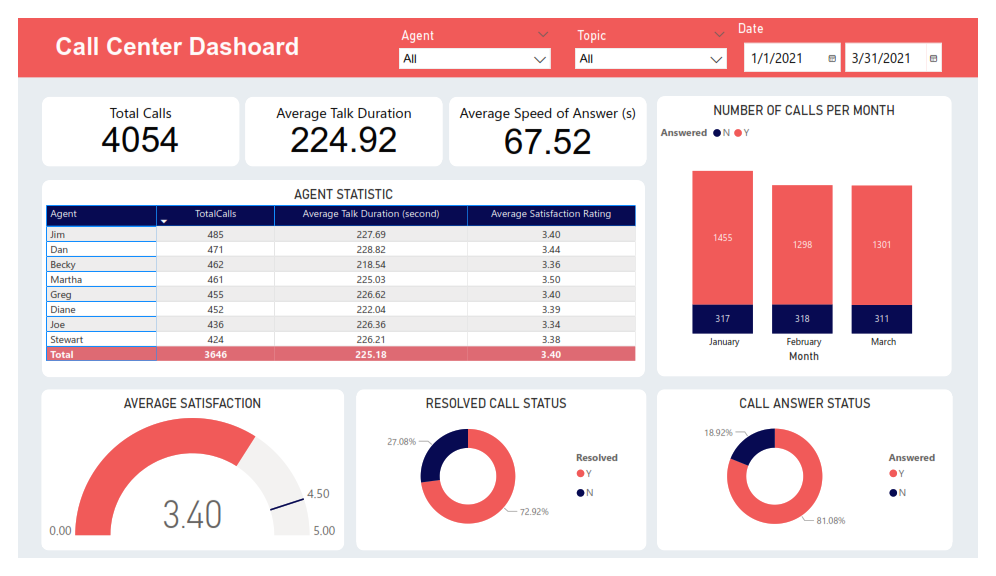

Layout of this report page (visuals, bound fields, positions):
{"tool":"powerbi","page":{"name":"Dashboard","canvas":[1280,720],"ordinal":0},"visuals":[{"type":"shape","box":[31.7,105,263.3,93.3],"z":0,"group":"g3"},{"type":"shape","box":[303.3,105,262.9,92.9],"z":0,"group":"g4"},{"type":"shape","box":[575,105,262.9,92.9],"z":0,"group":"g2"},{"type":"group","id":"g1","title":"Group 5","box":[32.3,216,803.8,263],"z":0},{"type":"shape","box":[32.3,216,803.8,263],"z":0,"group":"g1"},{"type":"shape","box":[852.5,104.4,393,374.4],"z":1000,"group":"g5"},{"type":"shape","box":[852.2,495.2,393.8,214.5],"z":1000},{"type":"shape","box":[451.1,495.2,386.4,214.5],"z":2000},{"type":"kpi","title":"Total Calls","fields":{"Indicator":["Sheet1 (2).TotalCalls1"],"TrendLine":["Sheet1.datepalsu"]},"box":[31.7,114.5,263.3,74.4],"z":3000,"group":"g3"},{"type":"shape","box":[30.9,495.2,404.1,214.5],"z":3000},{"type":"shape","box":[0,0,1280,78.6],"z":4000},{"type":"kpi","title":"Average Speed of Answer (s)","fields":{"TrendLine":["Sheet1.datepalsu"],"Indicator":["Sheet1.AvgSpeedOfAnswer"]},"box":[575,114.4,262.9,74.1],"z":4000,"group":"g2"},{"type":"slicer","fields":{"Values":["Sheet1.Agent"]},"box":[497.6,8.6,222.9,62.9],"z":5000},{"type":"slicer","fields":{"Values":["Sheet1.Topic"]},"box":[733.3,8.6,221.4,62.9],"z":6000},{"type":"pivotTable","title":"AGENT STATISTIC","fields":{"Rows":["Sheet1.Agent"],"Values":["Sheet1.TotalCalls","Avg(Sheet1.AvgTalkDuration (second))","Avg(Sheet1.Satisfaction rating)"]},"box":[32.7,226,802.8,237.9],"z":7000},{"type":"donutChart","title":"CALL ANSWER STATUS","fields":{"Category":["Sheet1 (2).Answered (Y/N)"],"Y":["Sheet1 (2).TotalCalls1"]},"box":[852.2,504,393.8,195.4],"z":8000},{"type":"donutChart","title":"RESOLVED CALL STATUS","fields":{"Y":["Sheet1 (2).TotalCalls1"],"Category":["Sheet1 (2).Resolved"]},"box":[451.1,504,373.2,195.4],"z":9000},{"type":"slicer","title":"Date","fields":{"Values":["Sheet1.Date"]},"box":[955.1,4.4,289.5,69.1],"z":10000},{"type":"group","id":"g2","title":"Group 1","box":[575,105,263.3,93.3],"z":11000},{"type":"kpi","title":"Average Talk Duration","fields":{"Indicator":["Sheet1.AvgTalkDuration"],"TrendLine":["Sheet1.datepalsu"]},"box":[303.3,114.4,262.9,74.1],"z":11000,"group":"g4"},{"type":"group","id":"g3","title":"Group 2","box":[31.7,105,263.3,93.3],"z":12000},{"type":"group","id":"g4","title":"Group 3","box":[303.3,105,263.3,93.3],"z":13000},{"type":"group","id":"g5","title":"Group 4","box":[852.5,104.4,393,374.4],"z":14000},{"type":"columnChart","title":"NUMBER OF CALLS PER MONTH","fields":{"Category":["Sheet1 (2).Date.Variation.Date Hierarchy.Month"],"Series":["Sheet1 (2).Answered (Y/N)"],"Y":["CountNonNull(Sheet1 (2).Call Id)"]},"box":[851.8,114.5,392.5,349.4],"z":15000},{"type":"gauge","title":"AVERAGE SATISFACTION","fields":{"Y":["Sheet1.AvgSatisfaction"]},"box":[32.3,504,401.1,201.3],"z":16000}]}

Visuals, with their boxes in screenshot pixels (x1, y1, x2, y2), scaled from the page's 1280x720 canvas onto the 996x576 screenshot:
shape: [left=25, top=84, right=230, bottom=159]
shape: [left=236, top=84, right=441, bottom=158]
shape: [left=447, top=84, right=652, bottom=158]
"Group 5" group: [left=25, top=173, right=651, bottom=383]
shape: [left=25, top=173, right=651, bottom=383]
shape: [left=663, top=84, right=969, bottom=383]
shape: [left=663, top=396, right=970, bottom=568]
shape: [left=351, top=396, right=652, bottom=568]
"Total Calls" kpi: [left=25, top=92, right=230, bottom=151]
shape: [left=24, top=396, right=338, bottom=568]
shape: [left=0, top=0, right=995, bottom=63]
"Average Speed of Answer (s)" kpi: [left=447, top=92, right=652, bottom=151]
slicer - Sheet1.Agent: [left=387, top=7, right=561, bottom=57]
slicer - Sheet1.Topic: [left=571, top=7, right=743, bottom=57]
"AGENT STATISTIC" pivotTable: [left=25, top=181, right=650, bottom=371]
"CALL ANSWER STATUS" donutChart: [left=663, top=403, right=970, bottom=560]
"RESOLVED CALL STATUS" donutChart: [left=351, top=403, right=641, bottom=560]
"Date" slicer: [left=743, top=4, right=968, bottom=59]
"Group 1" group: [left=447, top=84, right=652, bottom=159]
"Average Talk Duration" kpi: [left=236, top=92, right=441, bottom=151]
"Group 2" group: [left=25, top=84, right=230, bottom=159]
"Group 3" group: [left=236, top=84, right=441, bottom=159]
"Group 4" group: [left=663, top=84, right=969, bottom=383]
"NUMBER OF CALLS PER MONTH" columnChart: [left=663, top=92, right=968, bottom=371]
"AVERAGE SATISFACTION" gauge: [left=25, top=403, right=337, bottom=564]
